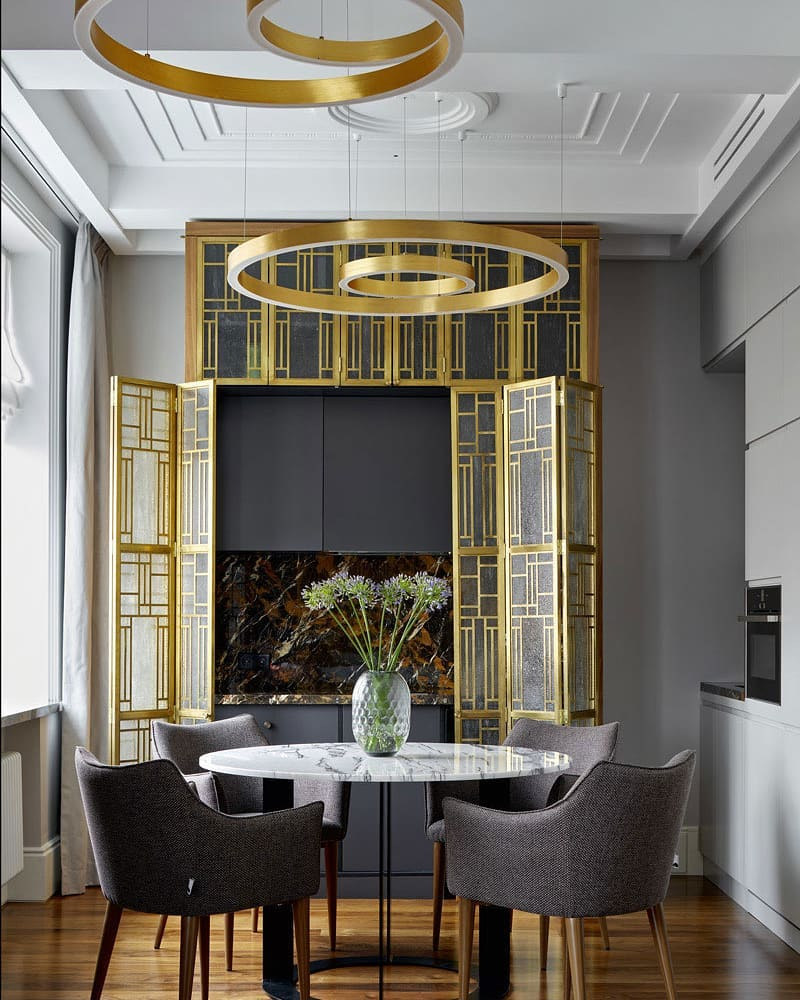kursi: (63, 739, 336, 990), (438, 752, 693, 1000)
meja: (206, 738, 573, 800)
tanaman: (298, 570, 464, 754)
